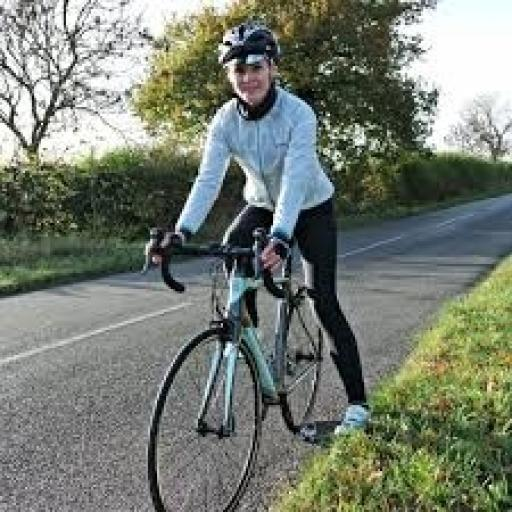cycling: (143, 20, 378, 444)
